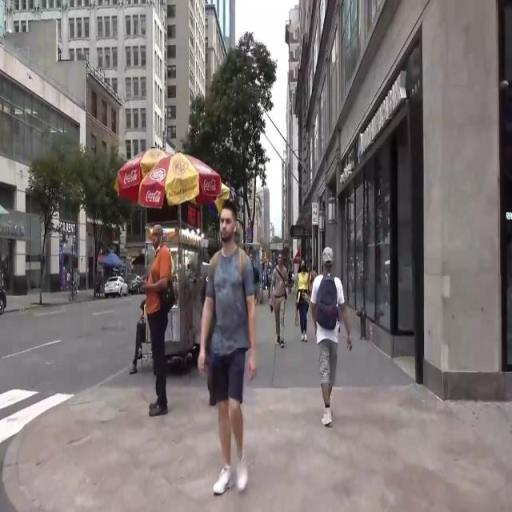person: (198, 202, 270, 512), (146, 226, 187, 414), (311, 248, 345, 428), (271, 252, 290, 359), (296, 256, 316, 355), (133, 288, 152, 376), (251, 250, 258, 301)
